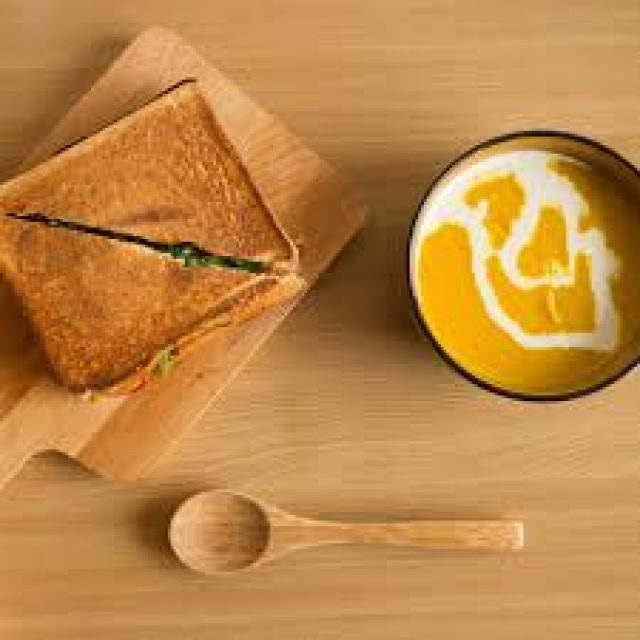Sandwich: (0, 67, 314, 410)
